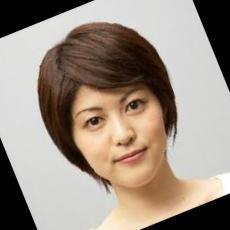Sober: (69, 81, 164, 181)
